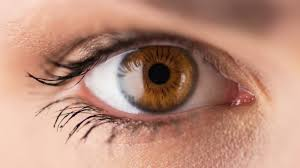pupil: (120, 45, 197, 110)
